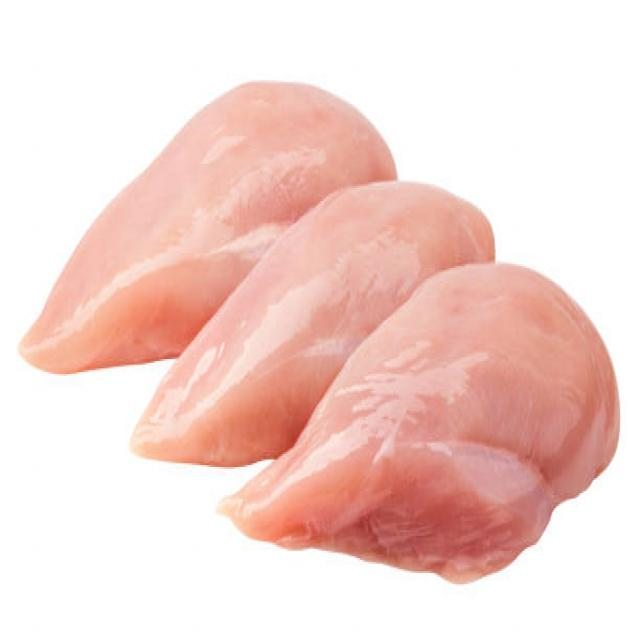Chicken Breast: (373, 283, 638, 582), (250, 162, 495, 327), (98, 66, 386, 190)
